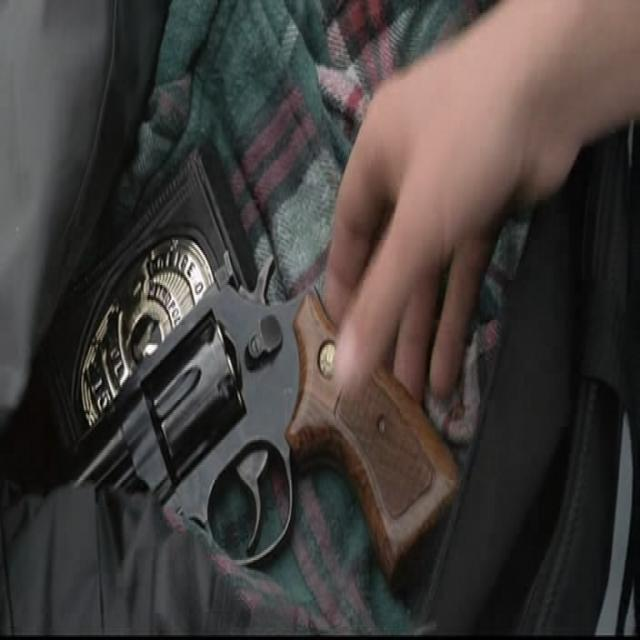gun-knife-thesis - v11 Yolov5 augmented: (44, 245, 476, 607)
